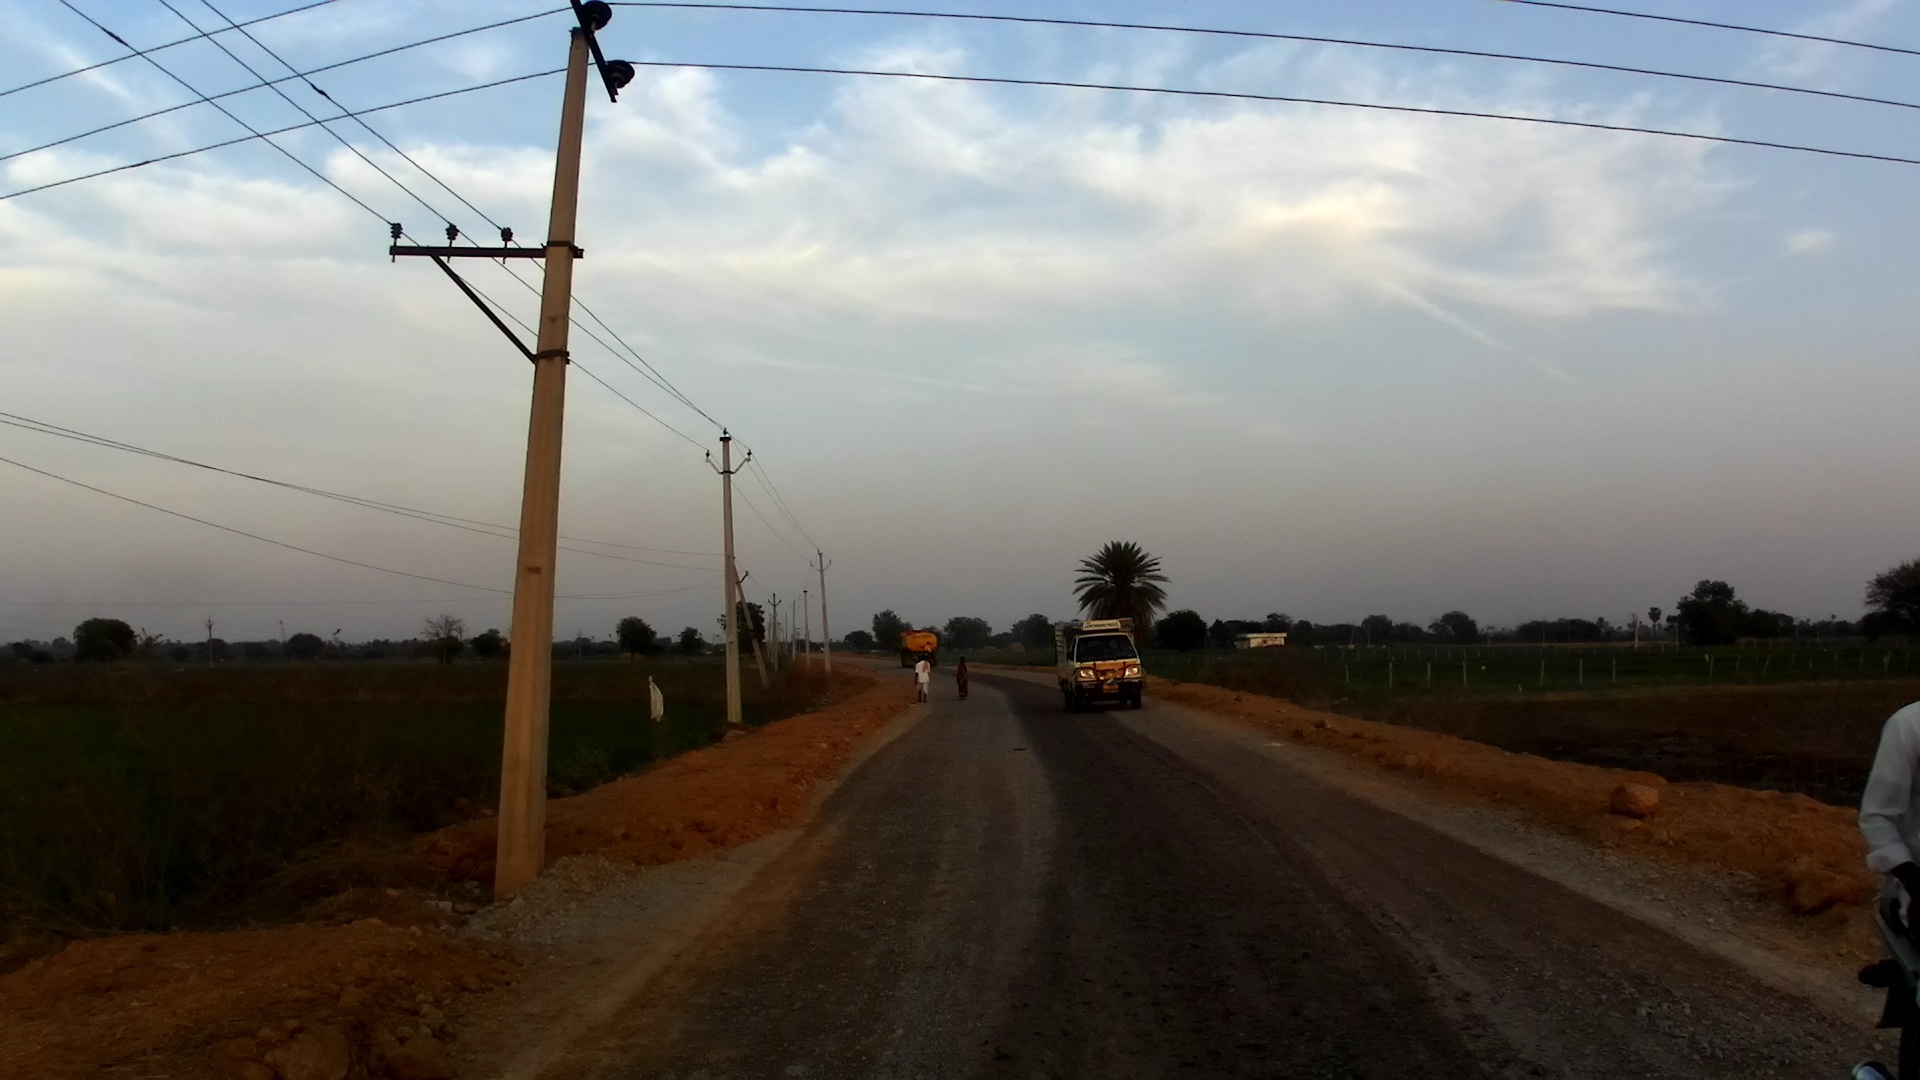motorcycle: (1845, 879, 1920, 1080)
person: (910, 650, 933, 705), (950, 653, 972, 704)
rider: (1849, 685, 1920, 996)
truck: (1053, 617, 1148, 715), (900, 633, 942, 675)
